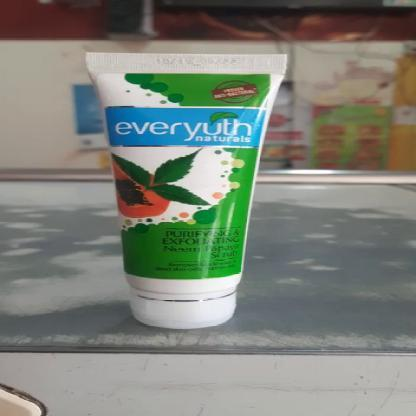EY_SCR_PURIFYING_EXFOLTNG_NEEM_PAPAYA_50G: (80, 50, 294, 331)
